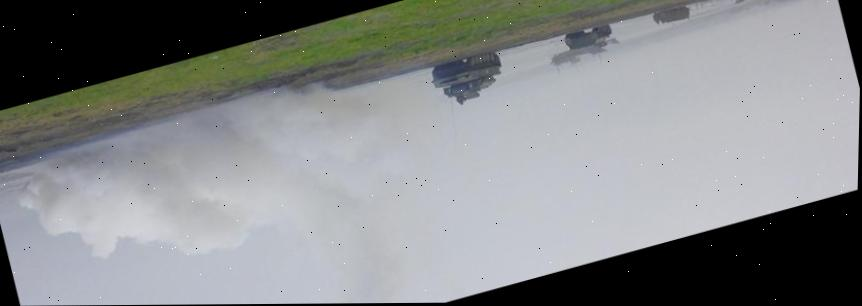tank: (425, 47, 509, 112), (560, 20, 615, 57)
